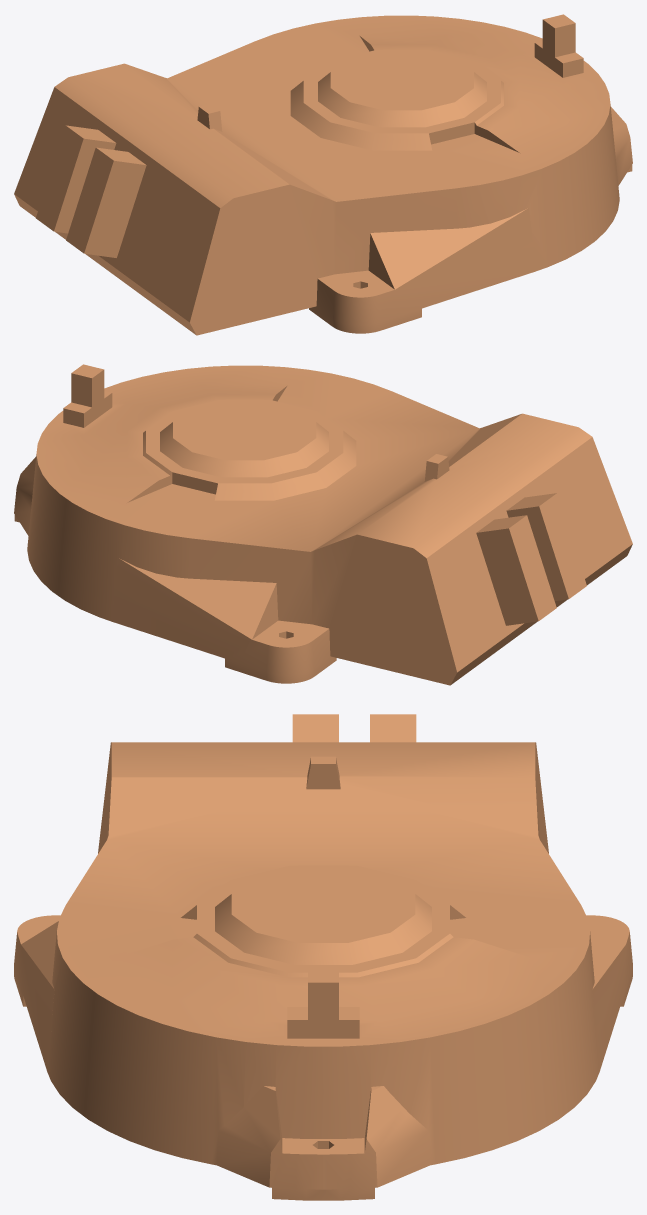
3 renders of one model, top to bottom at view 1: azimuth 30°, elevation 25°; view 2: azimuth 150°, elevation 25°; view 3: azimuth 270°, elevation 25°, orthographic. The views are drawn at different scales.
Parts seen in each view (by area): view 1: Base_Link; view 2: Base_Link; view 3: Base_Link.
Part boxes in pixels (x1=…): Base_Link: x1=14, y1=14, x2=632, y2=335; Base_Link: x1=14, y1=364, x2=632, y2=685; Base_Link: x1=14, y1=714, x2=632, y2=1200.
Size of the model in its own units: 0.7788 by 0.5999 by 0.203.
